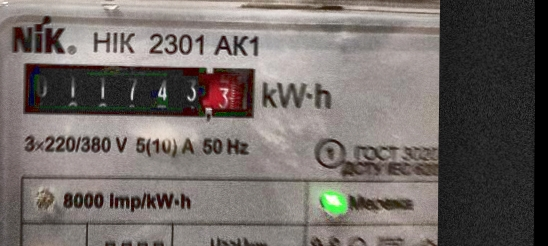0: (34, 72, 48, 100)
1: (95, 72, 107, 100), (66, 72, 76, 99)
3: (184, 76, 198, 103), (215, 85, 229, 110)
4: (154, 76, 168, 103)
7: (124, 72, 139, 101)
screen: (12, 52, 265, 129)
